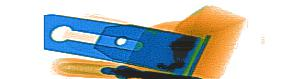knife: (42, 10, 202, 76)
